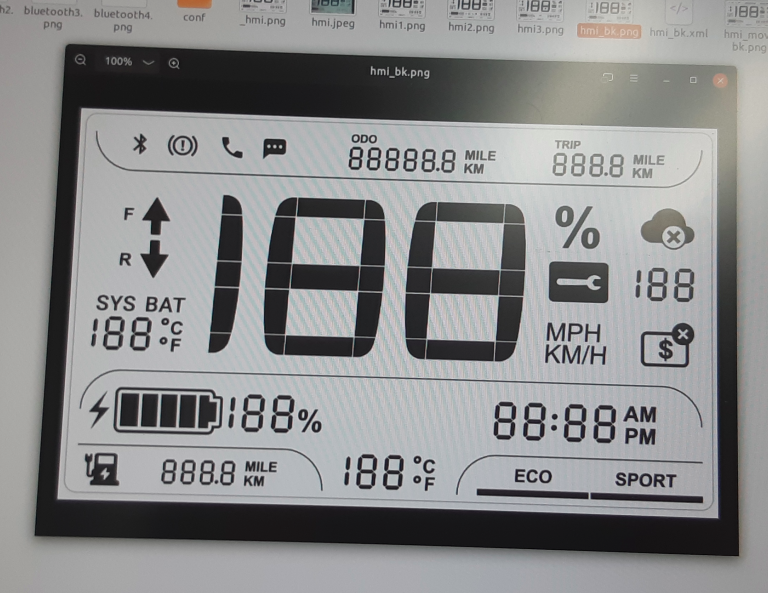bluetooth_on: (129, 130, 152, 157)
braking_on: (163, 131, 201, 159)
calling_on: (218, 134, 248, 162)
connection_lost: (638, 205, 697, 253)
error_code: (546, 257, 611, 305)
low_battery: (81, 450, 123, 489)
sms_on: (259, 135, 287, 163)
vin_id: (637, 320, 697, 369)
